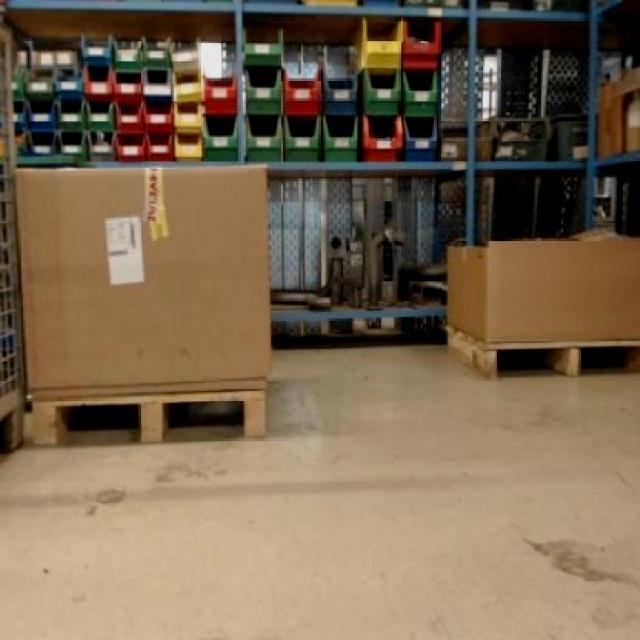floor: (0, 343, 637, 637)
pallets: (15, 165, 268, 442), (446, 234, 637, 374)
